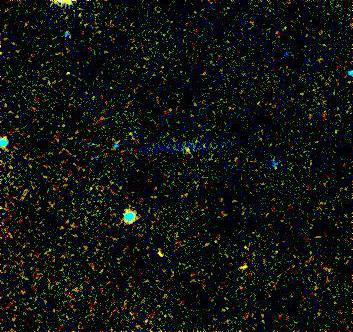star: (174, 133, 204, 163)
